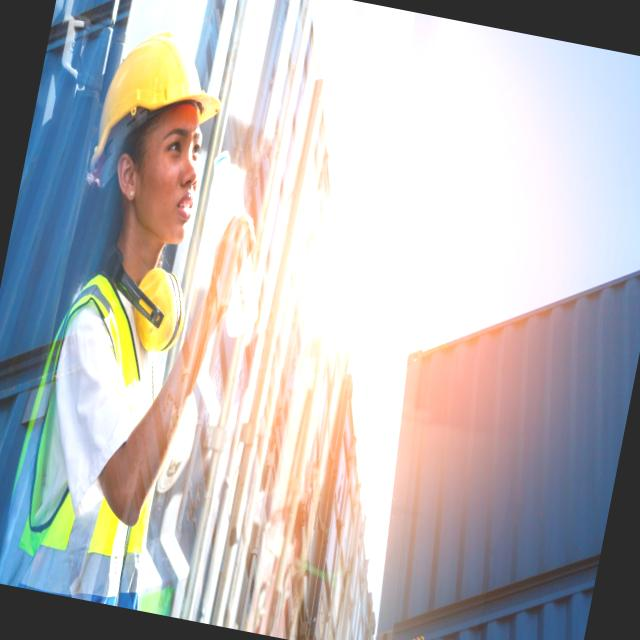helmet: (78, 15, 244, 168)
no-goggles: (120, 106, 224, 182)
vest: (0, 250, 219, 613)
